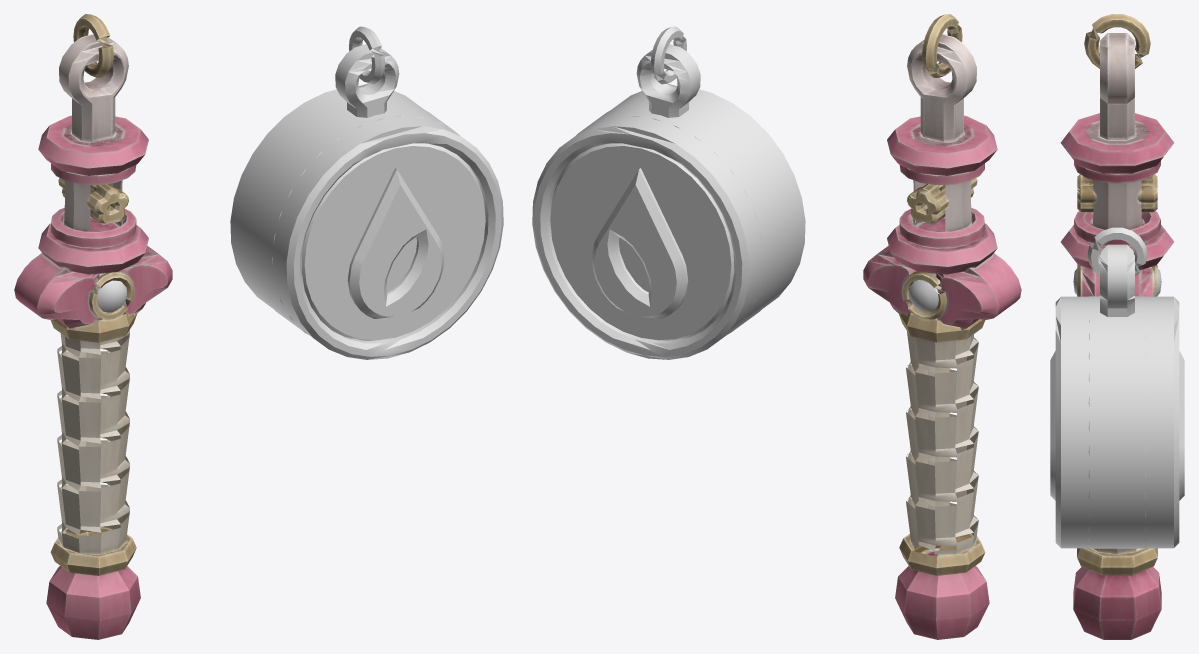
The model's file is Tendril Tether.fbx.
The picture shows the model from 3 angles, left to right: view 1: azimuth 30°, elevation 25°; view 2: azimuth 150°, elevation 25°; view 3: azimuth 270°, elevation 25°; orthographic projection.
Parts seen in each view (by area): view 1: Tendril Tether_Body, HeadWeight, HeadRim, HeadMotif, TopLug.001, TopRing.001, Tendril Tether_Glow; view 2: Tendril Tether_Body, HeadWeight, HeadRim, HeadMotif, TopLug.001, TopRing.001, Tendril Tether_Glow; view 3: Tendril Tether_Body, HeadRim, HeadWeight, TopLug.001, HeadMotif, TopRing.001, Tendril Tether_Glow.
Boxes of the visible parts, box(x1,y1,x2,y2) form: Tendril Tether_Body: box(14, 14, 172, 639); HeadWeight: box(244, 96, 485, 340); HeadRim: box(230, 85, 503, 359); HeadMotif: box(347, 168, 444, 320); TopLug.001: box(335, 44, 399, 117); TopRing.001: box(349, 26, 385, 84); Tendril Tether_Glow: box(97, 280, 126, 312); Tendril Tether_Body: box(863, 14, 1021, 639); HeadWeight: box(550, 96, 791, 340); HeadRim: box(532, 85, 805, 359); HeadMotif: box(591, 168, 688, 320); TopLug.001: box(636, 44, 700, 117); TopRing.001: box(650, 26, 686, 84); Tendril Tether_Glow: box(909, 280, 939, 312); Tendril Tether_Body: box(1060, 14, 1174, 639); HeadRim: box(1055, 296, 1179, 548); HeadWeight: box(1088, 296, 1146, 548); TopLug.001: box(1100, 244, 1134, 316); HeadMotif: box(1050, 351, 1184, 500); TopRing.001: box(1087, 227, 1147, 275); Tendril Tether_Glow: box(1073, 267, 1161, 296).
Bounding box in the file's own units: 1.48 × 1.95 × 0.38.
